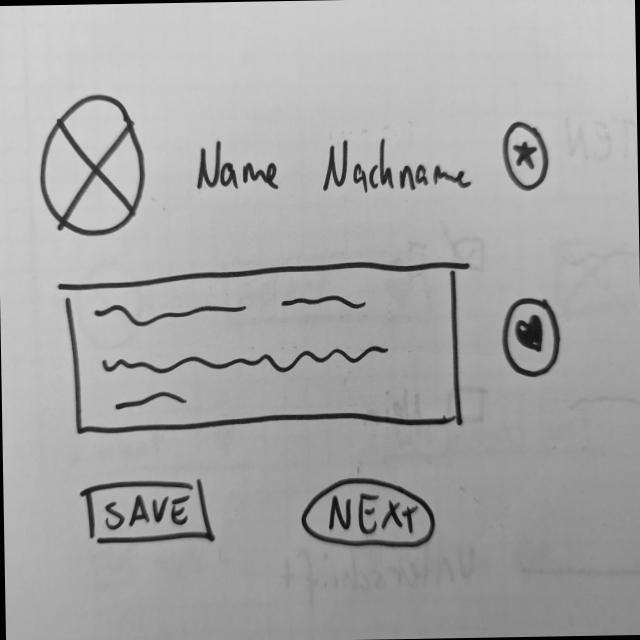button: (302, 473, 438, 553), (81, 476, 218, 550)
icon-button: (499, 296, 566, 378), (499, 119, 552, 193)
image: (37, 91, 152, 243)
label: (321, 132, 475, 198), (193, 138, 284, 200)
textbox: (65, 259, 463, 437)
